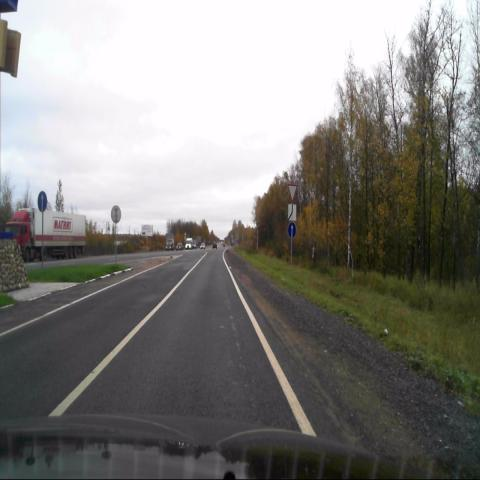2_4: (288, 183, 298, 201)
4_1_1: (287, 223, 296, 237)
